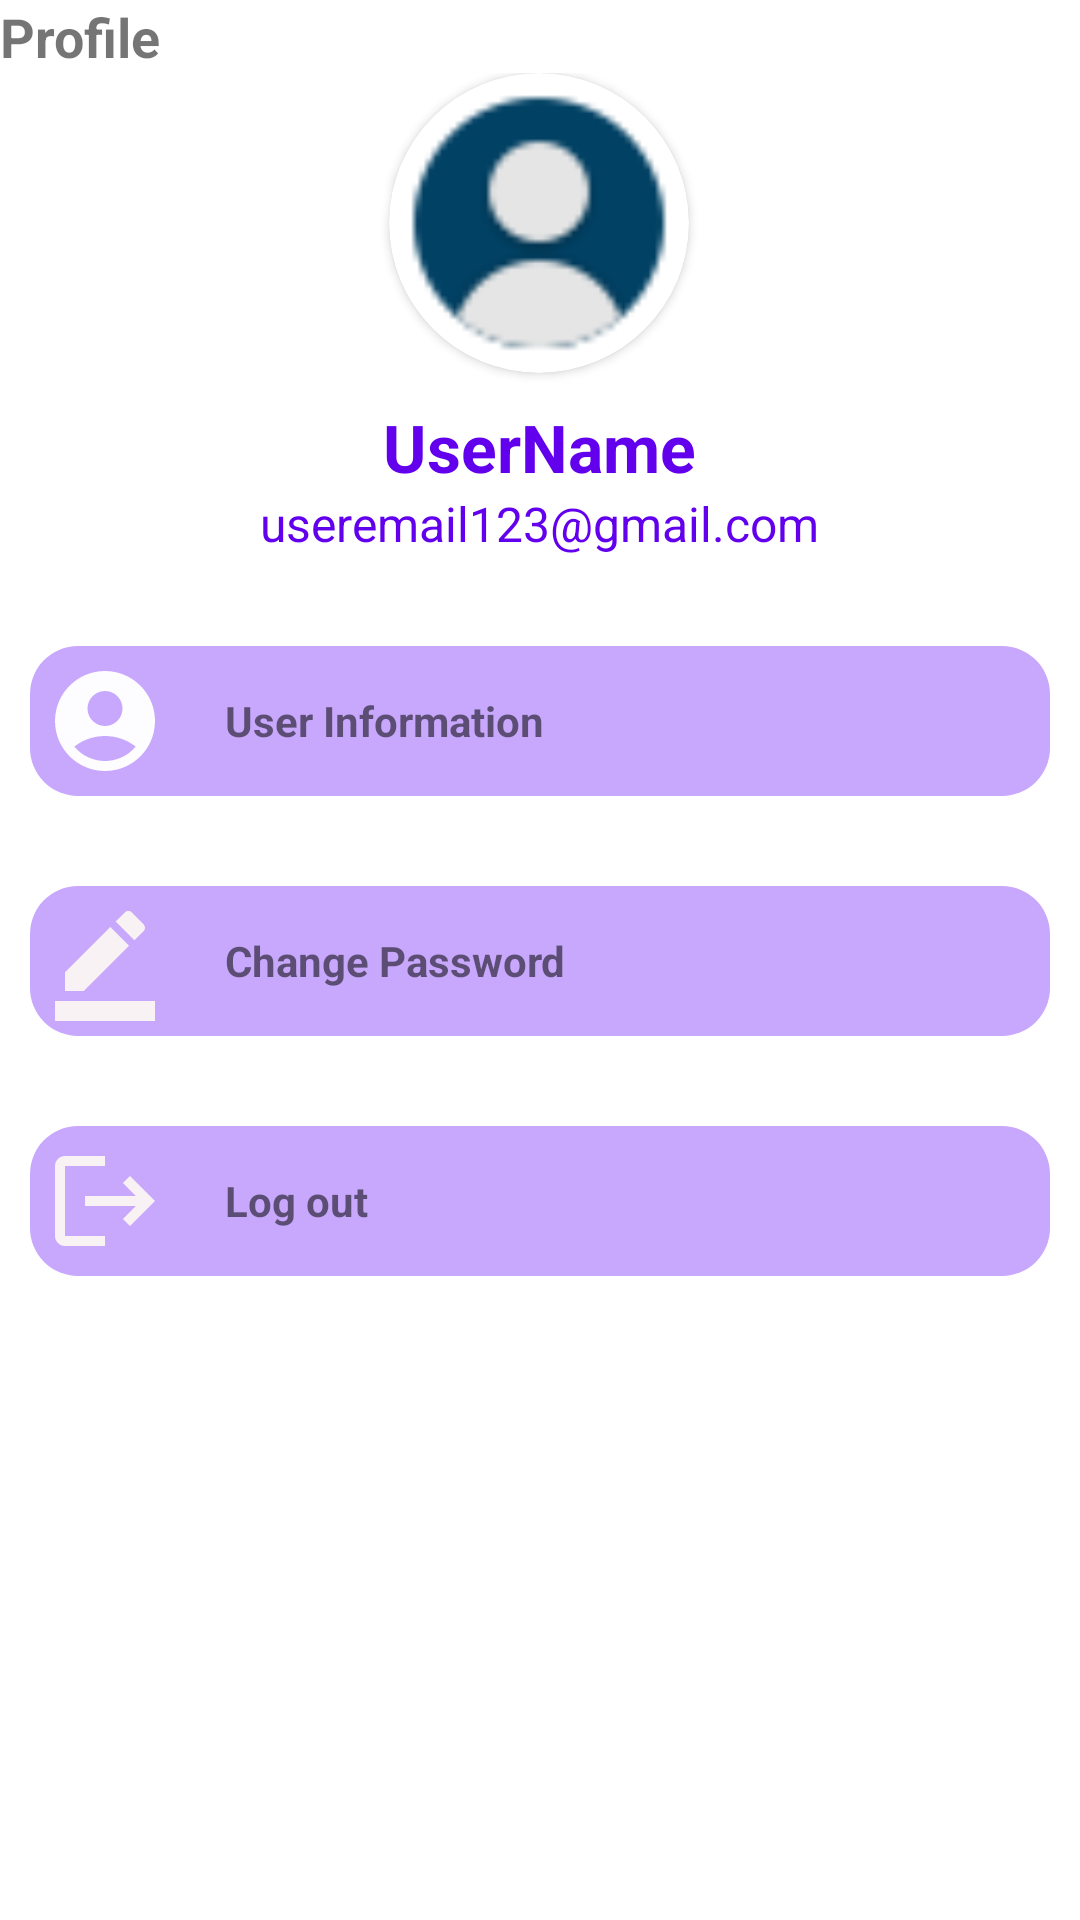

Named icons in this screenshot (1080w x 1920h) and their bounding boxes, (x1, y1, x2, y2):
account: (55, 671, 155, 771)
edit password: (55, 911, 155, 1021)
profile: (396, 95, 682, 373)
